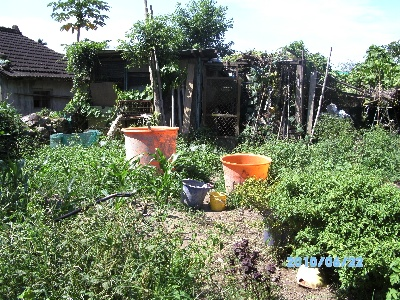bucket: (121, 125, 179, 166), (220, 153, 273, 193), (182, 179, 210, 208), (209, 191, 226, 211)
